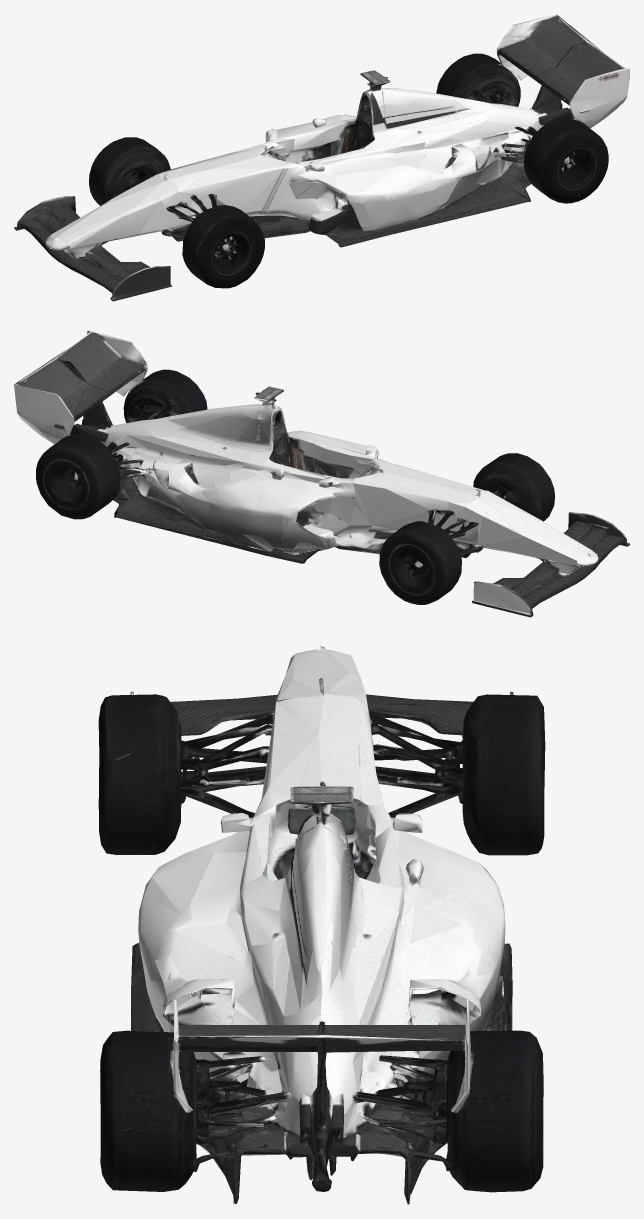
The model's file is car.glb.
3 renders of one model, top to bottom at view 1: azimuth 30°, elevation 25°; view 2: azimuth 150°, elevation 25°; view 3: azimuth 270°, elevation 25°, orthographic. The views are drawn at different scales.
Parts seen in each view (by area): view 1: mesh_node; view 2: mesh_node; view 3: mesh_node.
Part boxes in pixels (bbox=[...]): mesh_node: bbox=[14, 14, 629, 301]; mesh_node: bbox=[14, 330, 629, 617]; mesh_node: bbox=[98, 646, 545, 1204].
Size of the model in its own units: 1.9 by 0.4134 by 0.6742.
Materials: 1 (1 with a texture image).
